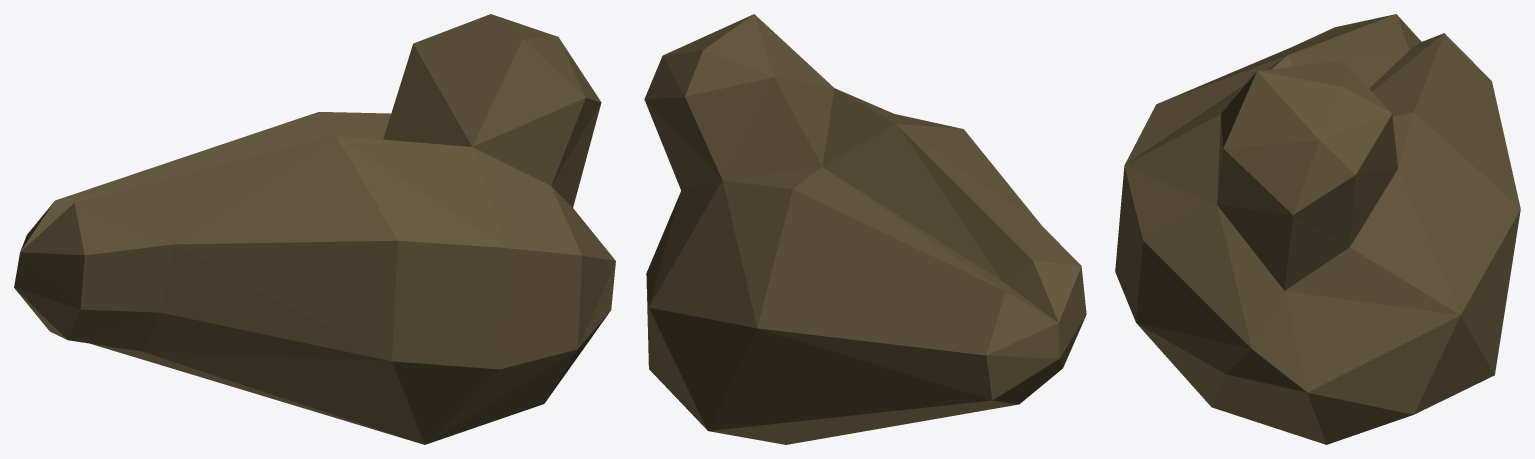
File: ant-cox-front-left.dae
3 renders of one model, left to right at view 1: azimuth 30°, elevation 25°; view 2: azimuth 150°, elevation 25°; view 3: azimuth 270°, elevation 25°, orthographic. The views are drawn at different scales.
Parts seen in each view (by area): view 1: ant-cox-front-left; view 2: ant-cox-front-left; view 3: ant-cox-front-left.
Boxes of the visible parts, left/top/right/bottom form: ant-cox-front-left: left=14, top=14, right=615, bottom=444; ant-cox-front-left: left=644, top=14, right=1086, bottom=444; ant-cox-front-left: left=1115, top=14, right=1520, bottom=444.
Bounding box in the file's own units: 2.45 × 1.71 × 1.82.
